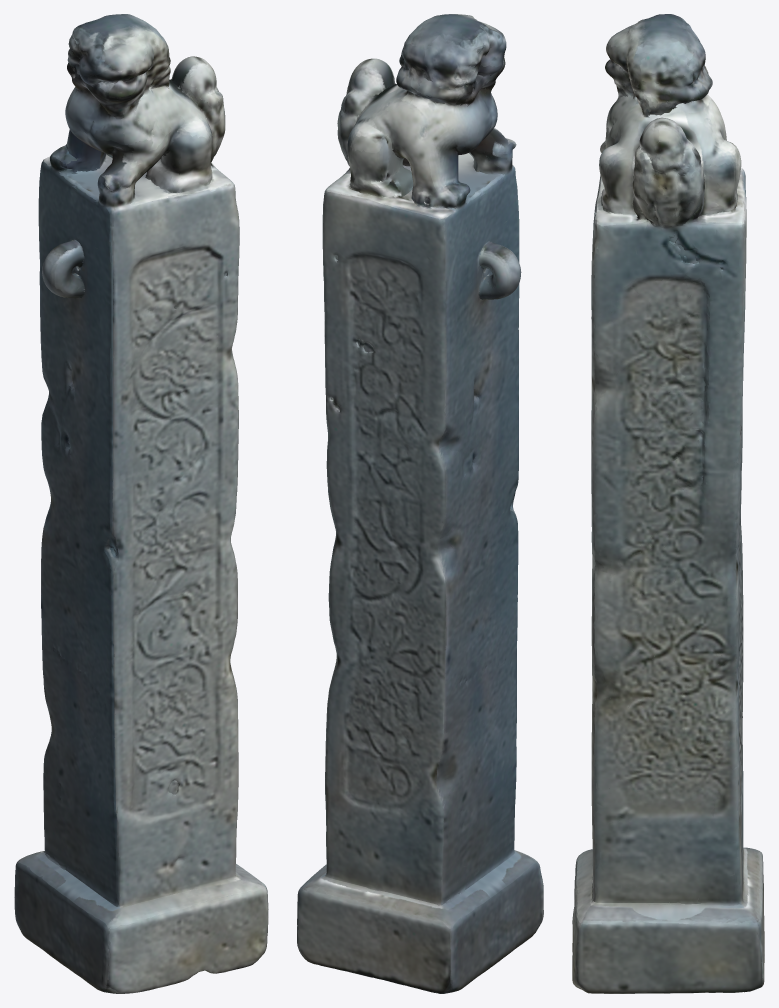
File: hitching-post.glb
The picture shows the model from 3 angles, left to right: view 1: azimuth 30°, elevation 25°; view 2: azimuth 150°, elevation 25°; view 3: azimuth 270°, elevation 25°; orthographic projection.
Visible parts, largest first — view 1: geometry_0; view 2: geometry_0; view 3: geometry_0.
Part boxes in pixels (box(x1,y1,x2,y2)): geometry_0: box(14, 14, 268, 993); geometry_0: box(297, 14, 543, 993); geometry_0: box(572, 14, 764, 993).
Bounding box in the file's own units: 0.3632 × 1.8 × 0.3415.
Materials: 1 (1 with a texture image).
